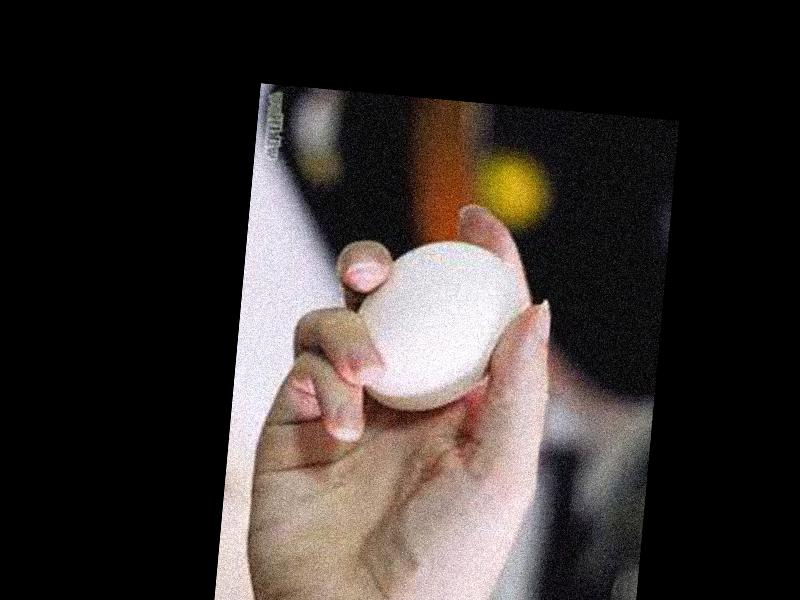Eggs: (351, 231, 524, 418)
